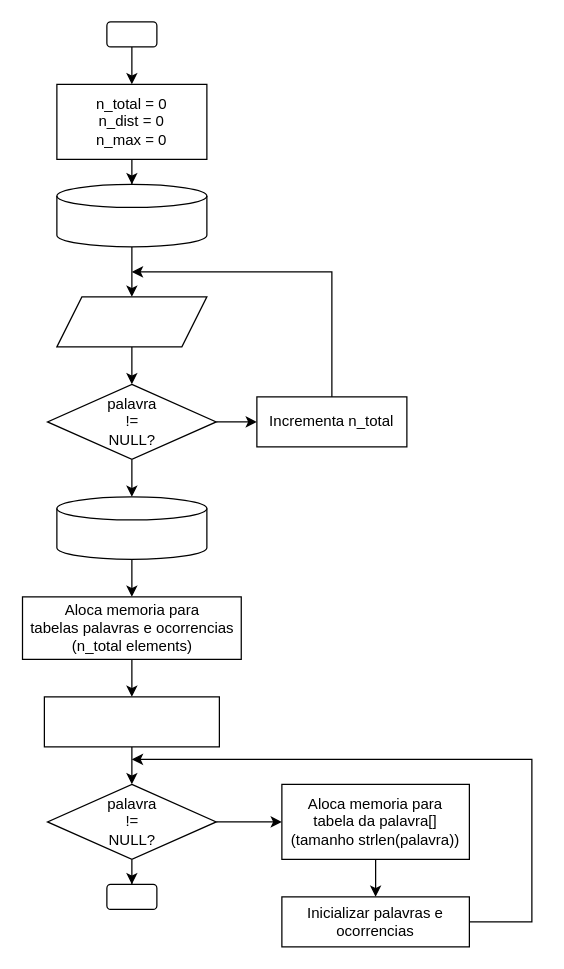
This 564x969 diagram has some shape labels left out. The box of each missing label's shape, as (x1, y1, x2, y2) in pixels:
Abre ficheiro: (56, 183, 207, 247)
Fecha ficheiro: (56, 496, 207, 559)
File pointer a apontar para o inicio do ficheiro: (43, 696, 219, 747)
Lê palavra: (56, 296, 207, 347)
